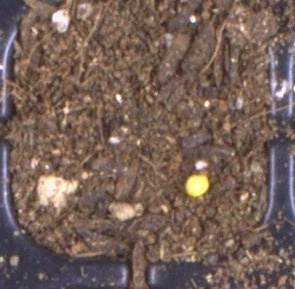chilli seed: (184, 173, 210, 197)
